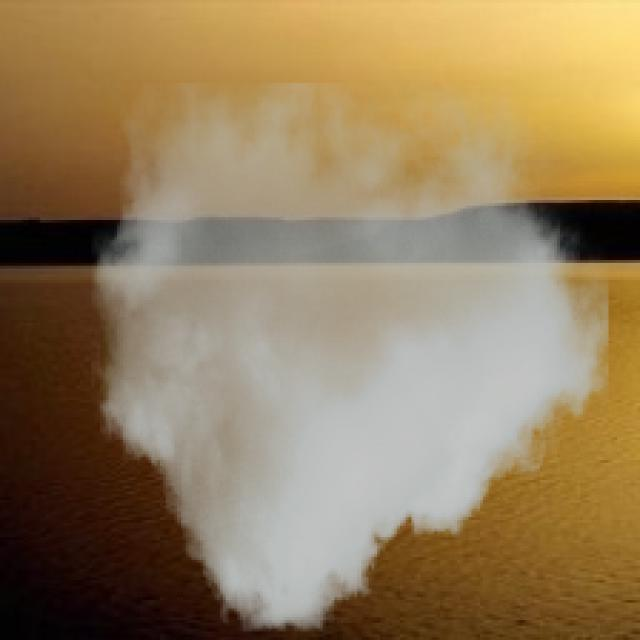smoke: (91, 83, 608, 631)
